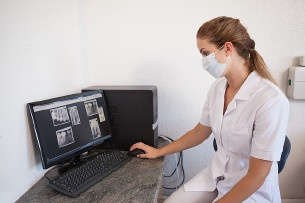Mask: (196, 46, 231, 80)
